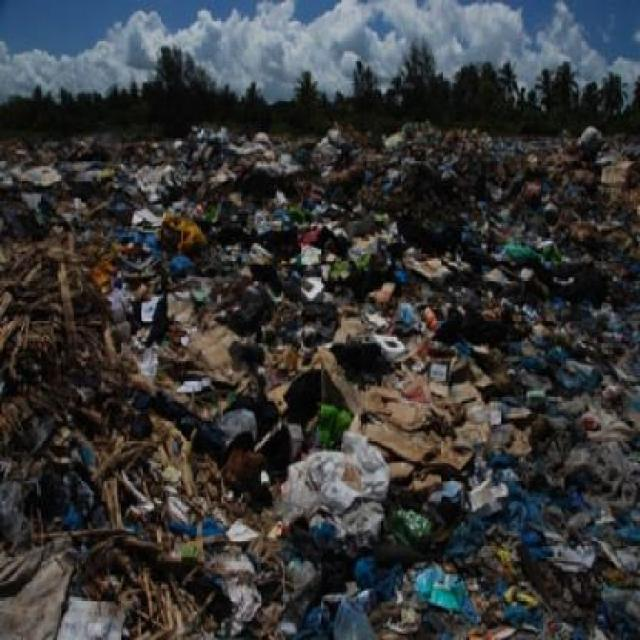garbage: (11, 151, 628, 616)
